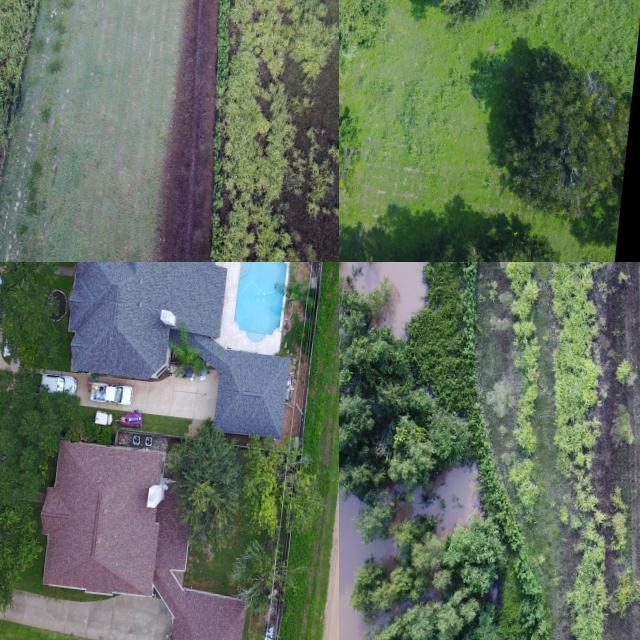fire: (410, 466, 478, 534)
